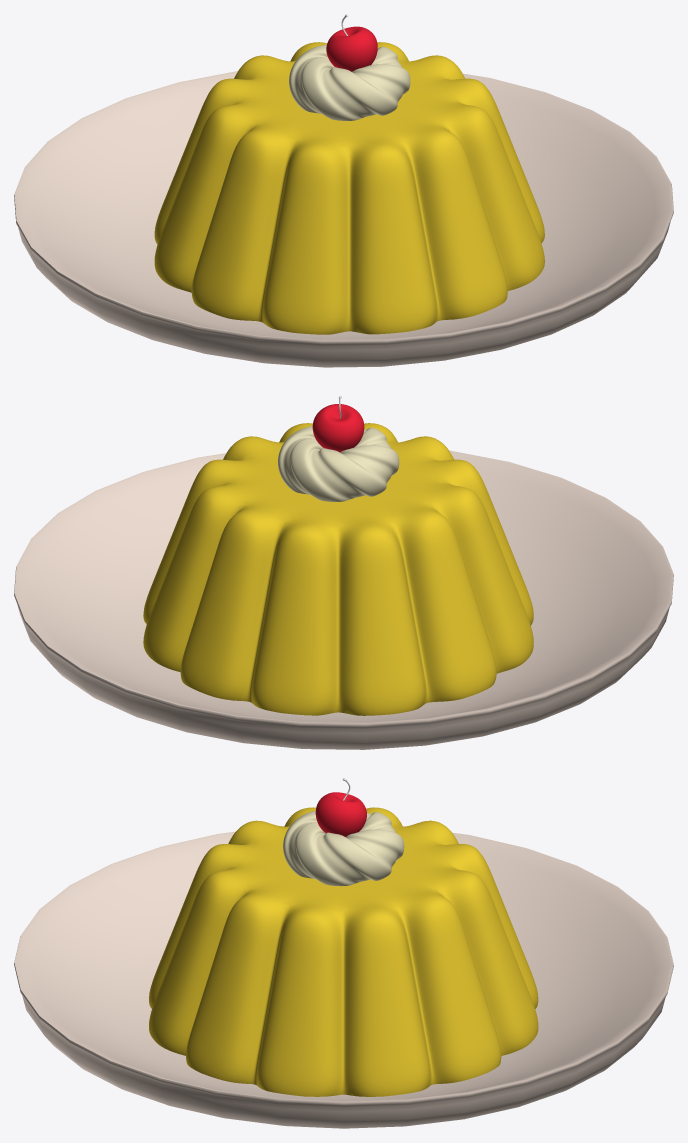
File: pudding.fbx
The picture shows the model from 3 angles, top to bottom: view 1: azimuth 30°, elevation 25°; view 2: azimuth 150°, elevation 25°; view 3: azimuth 270°, elevation 25°; orthographic projection.
Visible parts, largest first — view 1: Circle.004, Circle.001, Torus, Sphere; view 2: Circle.004, Circle.001, Torus, Sphere; view 3: Circle.004, Circle.001, Torus, Sphere.
Part boxes in pixels (x1,y1,x2,y2): Circle.004: (154, 42, 544, 334); Circle.001: (14, 71, 673, 367); Torus: (289, 45, 410, 120); Sphere: (326, 26, 377, 71); Circle.004: (143, 423, 533, 715); Circle.001: (14, 450, 673, 749); Torus: (278, 426, 399, 501); Sphere: (312, 404, 364, 452); Circle.004: (149, 807, 538, 1096); Circle.001: (14, 826, 673, 1128); Torus: (283, 811, 404, 886); Sphere: (315, 792, 366, 836).
Bounding box in the file's own units: 236 × 106 × 236.
